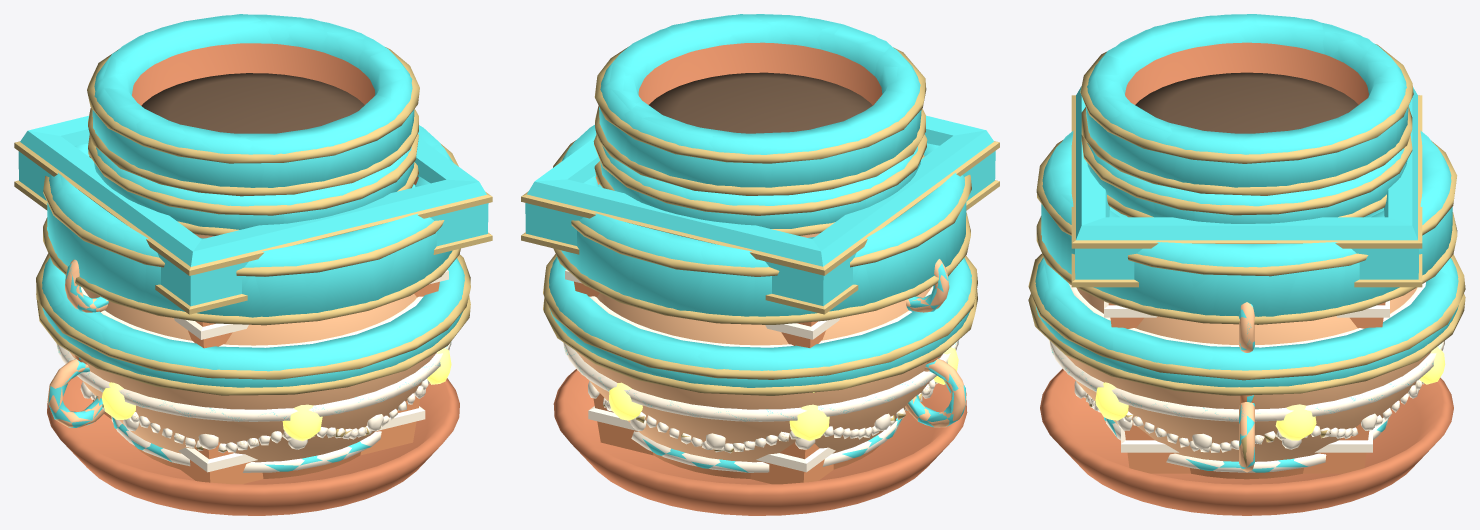
Rendered from chau-dat-nung.glb.
3 views of the same model, side by side, from view 1: azimuth 30°, elevation 25°; view 2: azimuth 150°, elevation 25°; view 3: azimuth 270°, elevation 25° (orthographic).
Parts seen in each view (by area): view 1: ChauDat_4_Lv4, ChauDat_6_Dia, ChauDat_3_Lv4, ChauDat_2_Lv4, ChauDat_3_Lv5, ChauDat_1_Lv4, ChauDat_2_Lv6, ChauDat_2_Than, ChauDat_1_Lv6, ChauDat_3_Dat, ChauDat_2_Lv5, ChauDat_3_Lv6 (+14 smaller); view 2: ChauDat_4_Lv4, ChauDat_6_Dia, ChauDat_3_Lv4, ChauDat_2_Lv4, ChauDat_3_Lv5, ChauDat_1_Lv4, ChauDat_2_Lv6, ChauDat_2_Than, ChauDat_1_Lv6, ChauDat_3_Dat, ChauDat_2_Lv5, ChauDat_3_Lv6 (+14 smaller); view 3: ChauDat_6_Dia, ChauDat_3_Lv4, ChauDat_4_Lv4, ChauDat_2_Lv4, ChauDat_3_Lv5, ChauDat_2_Lv6, ChauDat_1_Lv4, ChauDat_1_Lv6, ChauDat_2_Than, ChauDat_3_Dat, ChauDat_2_Lv5, ChauDat_3_Lv6 (+14 smaller).
Boxes of the visible parts, left/top/right/bottom form: ChauDat_4_Lv4: left=18, top=115, right=488, bottom=306; ChauDat_6_Dia: left=47, top=376, right=459, bottom=515; ChauDat_3_Lv4: left=92, top=14, right=414, bottom=187; ChauDat_2_Lv4: left=42, top=258, right=464, bottom=448; ChauDat_3_Lv5: left=93, top=14, right=412, bottom=187; ChauDat_1_Lv4: left=48, top=125, right=452, bottom=364; ChauDat_2_Lv6: left=36, top=253, right=470, bottom=451; ChauDat_2_Than: left=70, top=352, right=436, bottom=462; ChauDat_1_Lv6: left=43, top=143, right=460, bottom=325; ChauDat_3_Dat: left=141, top=73, right=364, bottom=133; ChauDat_2_Lv5: left=42, top=258, right=464, bottom=471; ChauDat_3_Lv6: left=87, top=47, right=419, bottom=196; ChauDat_4_Lv4: left=525, top=115, right=995, bottom=306; ChauDat_6_Dia: left=553, top=369, right=967, bottom=515; ChauDat_3_Lv4: left=600, top=14, right=921, bottom=187; ChauDat_2_Lv4: left=549, top=257, right=971, bottom=446; ChauDat_3_Lv5: left=599, top=14, right=921, bottom=187; ChauDat_1_Lv4: left=561, top=127, right=964, bottom=363; ChauDat_2_Lv6: left=543, top=254, right=977, bottom=452; ChauDat_2_Than: left=576, top=351, right=942, bottom=462; ChauDat_1_Lv6: left=553, top=140, right=971, bottom=324; ChauDat_3_Dat: left=649, top=72, right=872, bottom=133; ChauDat_2_Lv5: left=549, top=256, right=971, bottom=472; ChauDat_3_Lv6: left=594, top=47, right=926, bottom=195; ChauDat_6_Dia: left=1040, top=368, right=1453, bottom=515; ChauDat_3_Lv4: left=1086, top=14, right=1407, bottom=187; ChauDat_4_Lv4: left=1075, top=86, right=1418, bottom=279; ChauDat_2_Lv4: left=1035, top=257, right=1458, bottom=472; ChauDat_3_Lv5: left=1086, top=14, right=1408, bottom=187; ChauDat_2_Lv6: left=1028, top=254, right=1465, bottom=466; ChauDat_1_Lv4: left=1042, top=130, right=1452, bottom=403; ChauDat_1_Lv6: left=1036, top=133, right=1457, bottom=402; ChauDat_2_Than: left=1065, top=351, right=1431, bottom=461; ChauDat_3_Dat: left=1135, top=72, right=1358, bottom=133; ChauDat_2_Lv5: left=1035, top=258, right=1458, bottom=472; ChauDat_3_Lv6: left=1080, top=44, right=1413, bottom=195.
Bounding box in the file's own units: 1.33 × 1.12 × 1.22.
